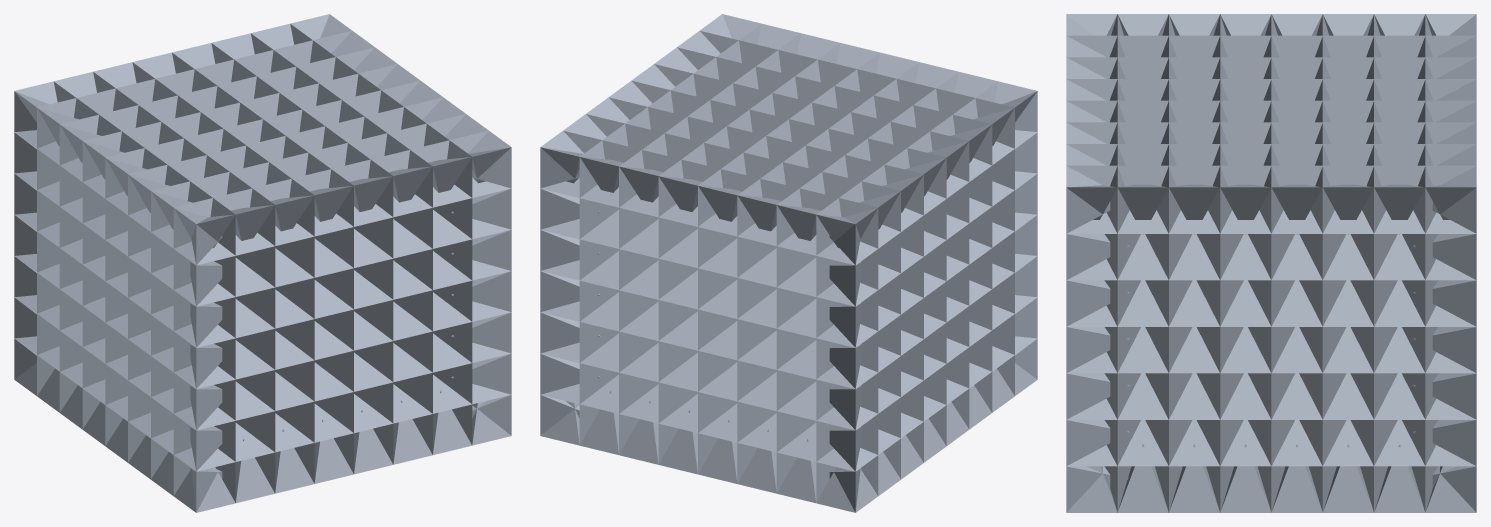
File: anechoic.glb
3 views of the same model, side by side, from view 1: azimuth 30°, elevation 25°; view 2: azimuth 150°, elevation 25°; view 3: azimuth 270°, elevation 25° (orthographic). The views are drawn at different scales.
Parts seen in each view (by area): view 1: Wedges; view 2: Wedges; view 3: Wedges.
Part boxes in pixels (x1,y1,x2,y2): Wedges: (14,14,511,512); Wedges: (540,14,1037,512); Wedges: (1066,14,1476,512).
Bounding box in the file's own units: 4.8 × 4.2 × 4.8.
